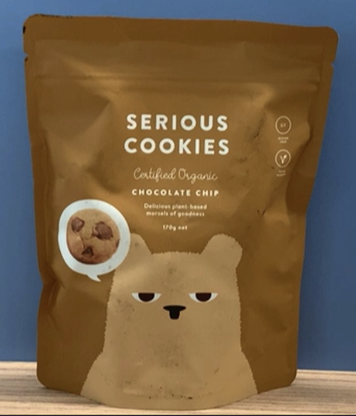cookies_100g-199g: (57, 105, 296, 365)
